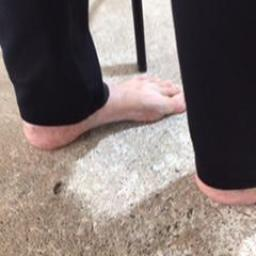Medial View -Left Foot-: (6, 70, 192, 152)
